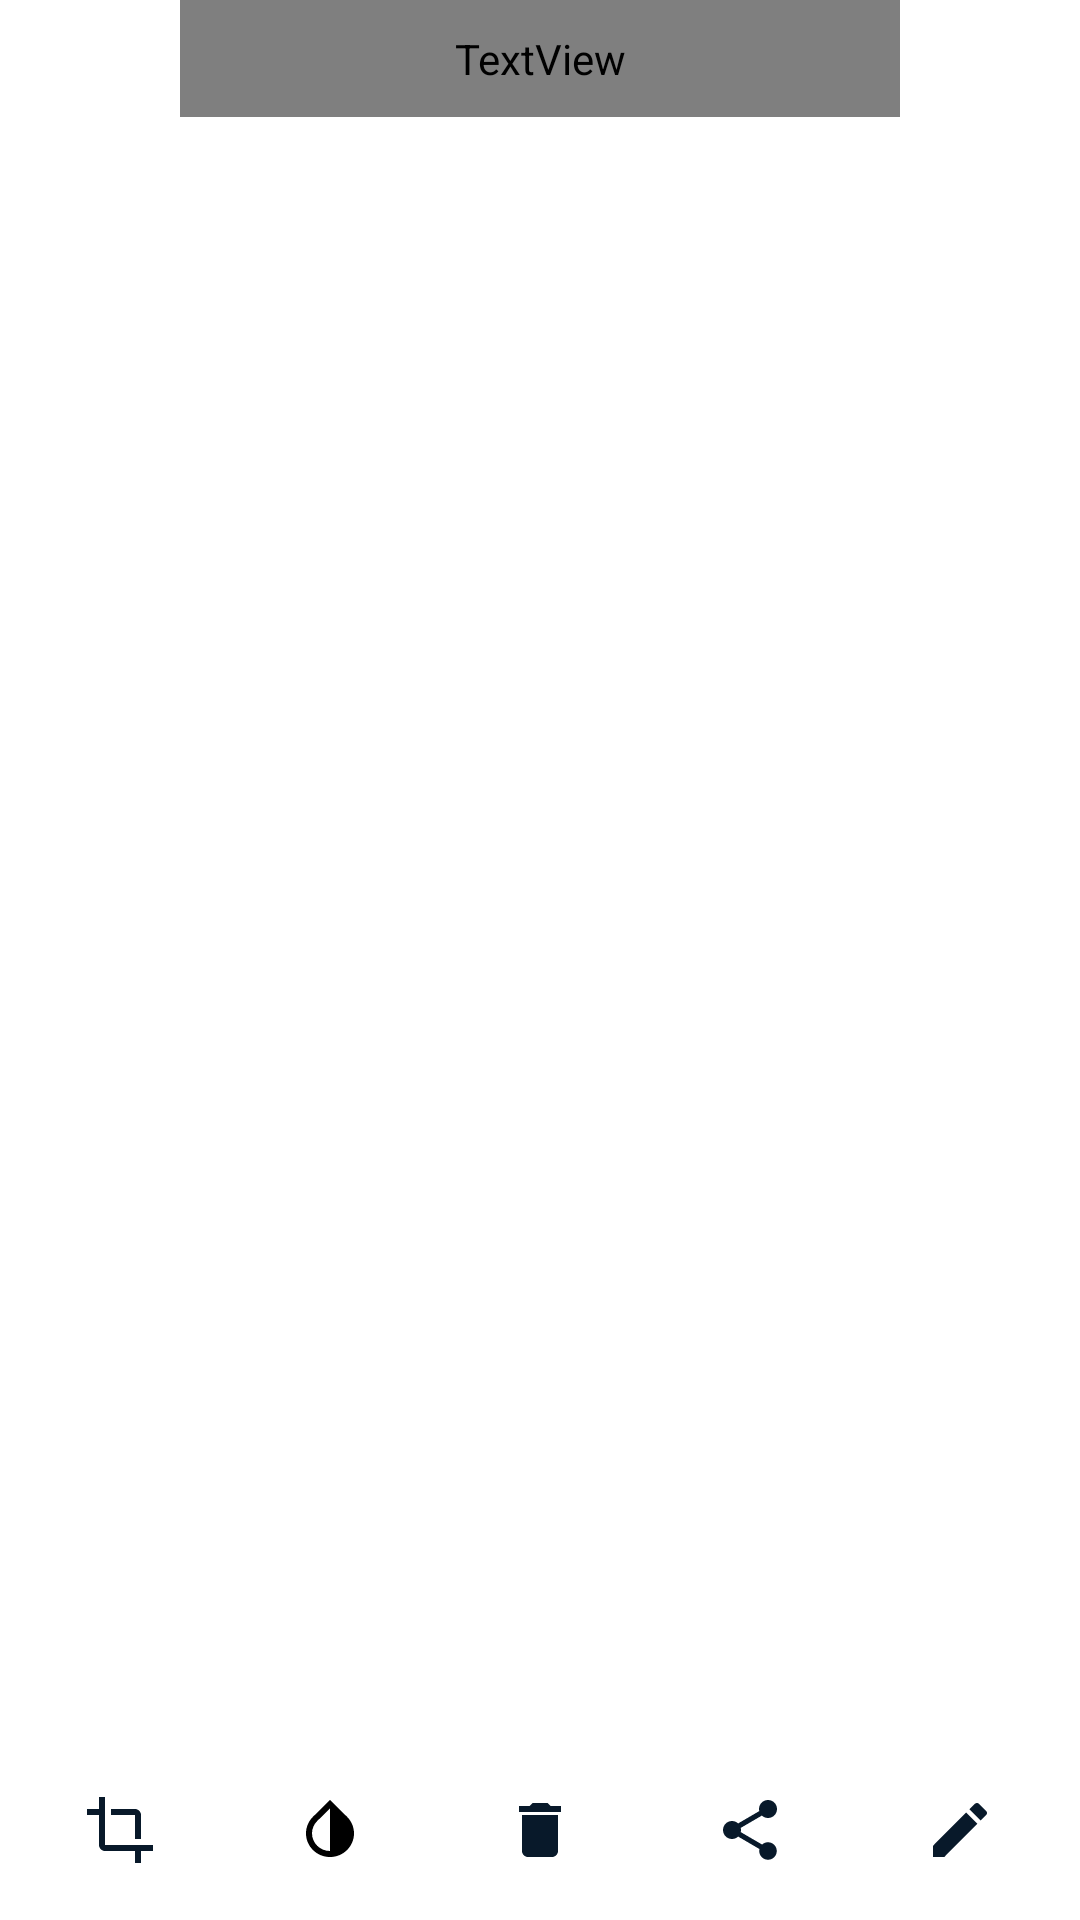

Icons on this 1080px x 1920px Android screen, each with the point to tap as [x,y]:
crop: [120,1830]
delete: [540,1830]
edit: [960,1830]
invert colors: [330,1828]
share: [750,1830]
